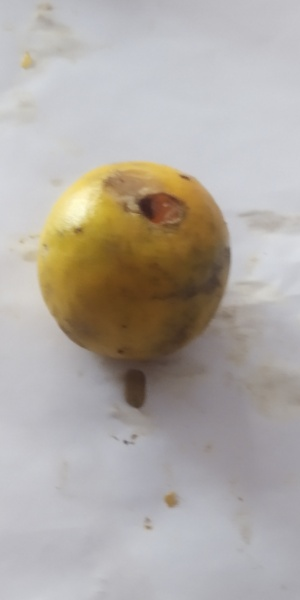BAD: (35, 151, 233, 359)
